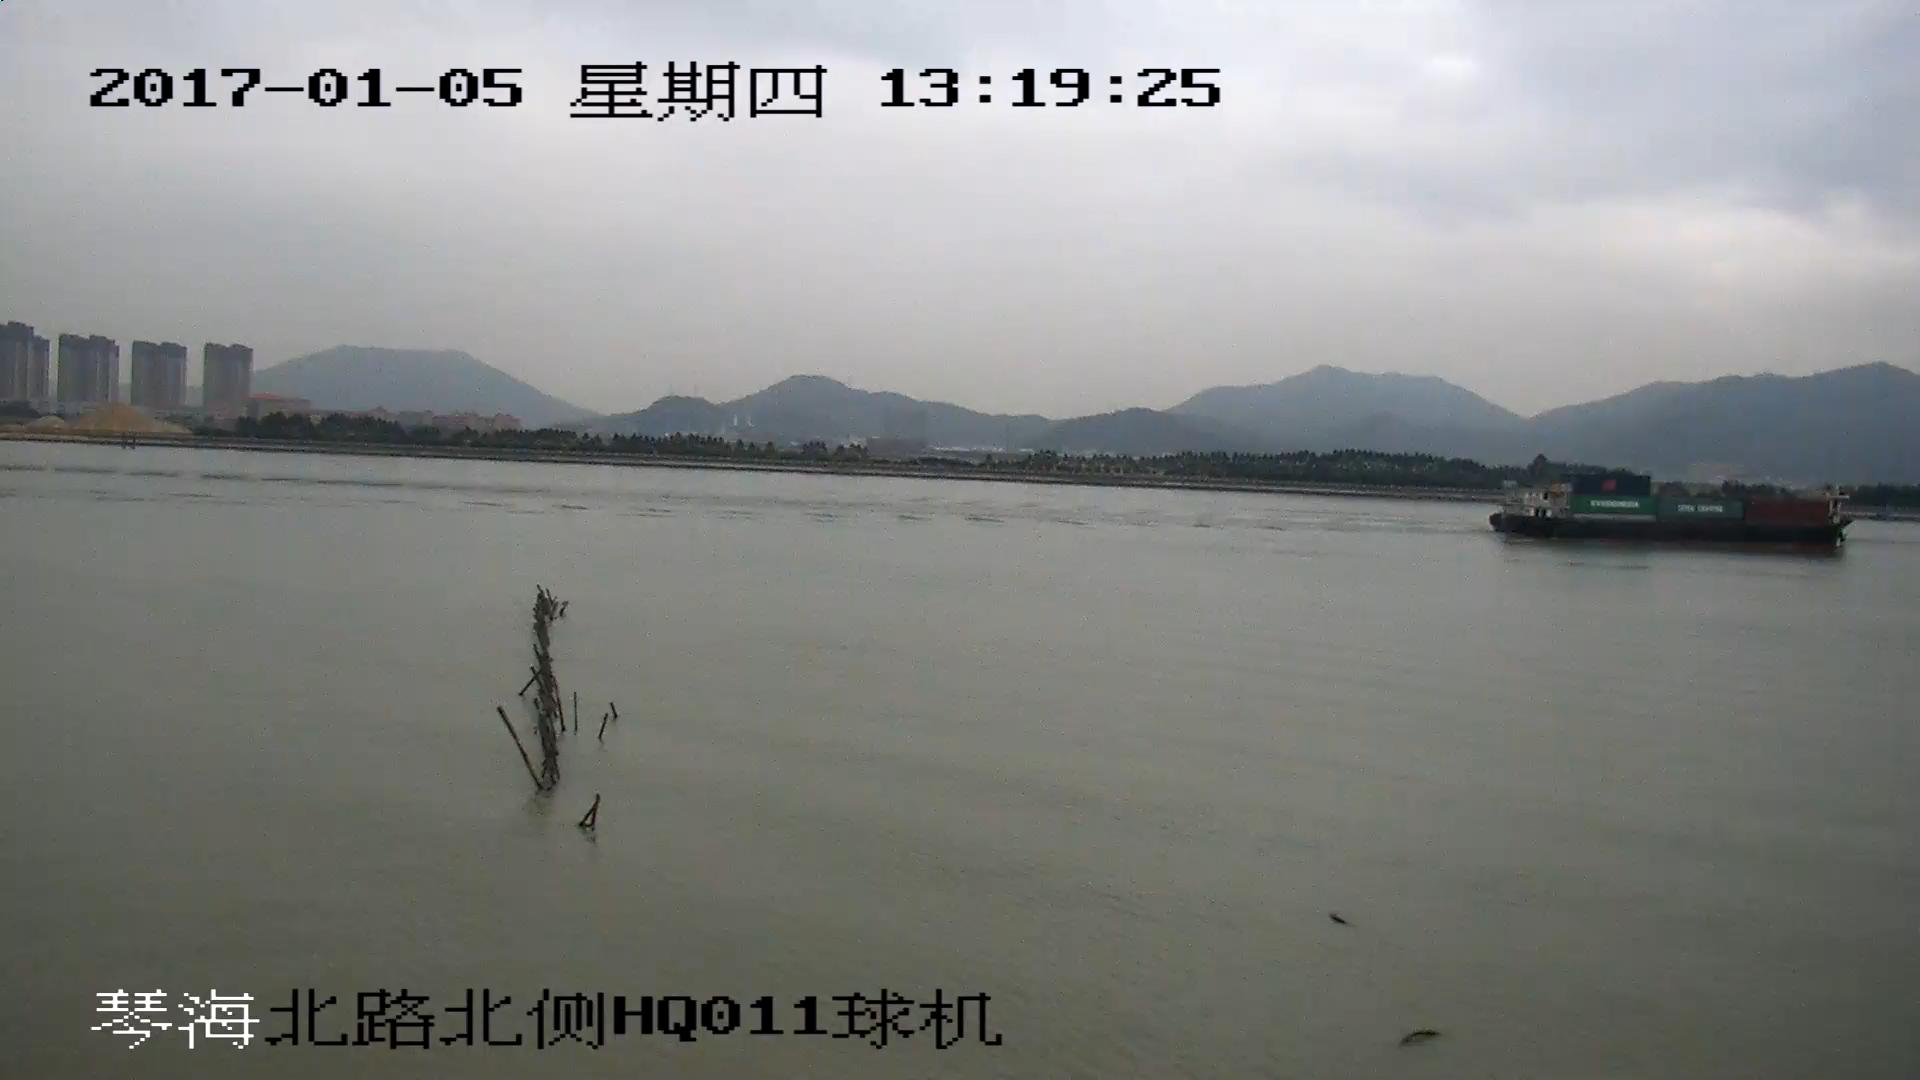container ship: (1499, 477, 1851, 550)
